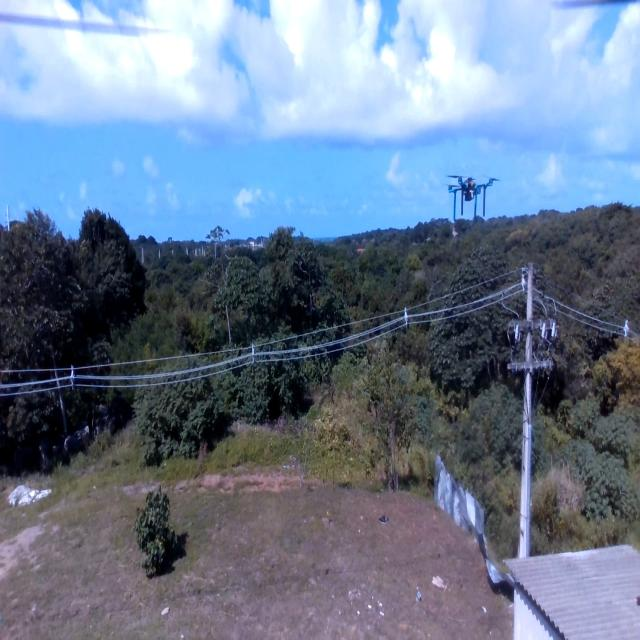-uav-: (439, 152, 502, 252)
